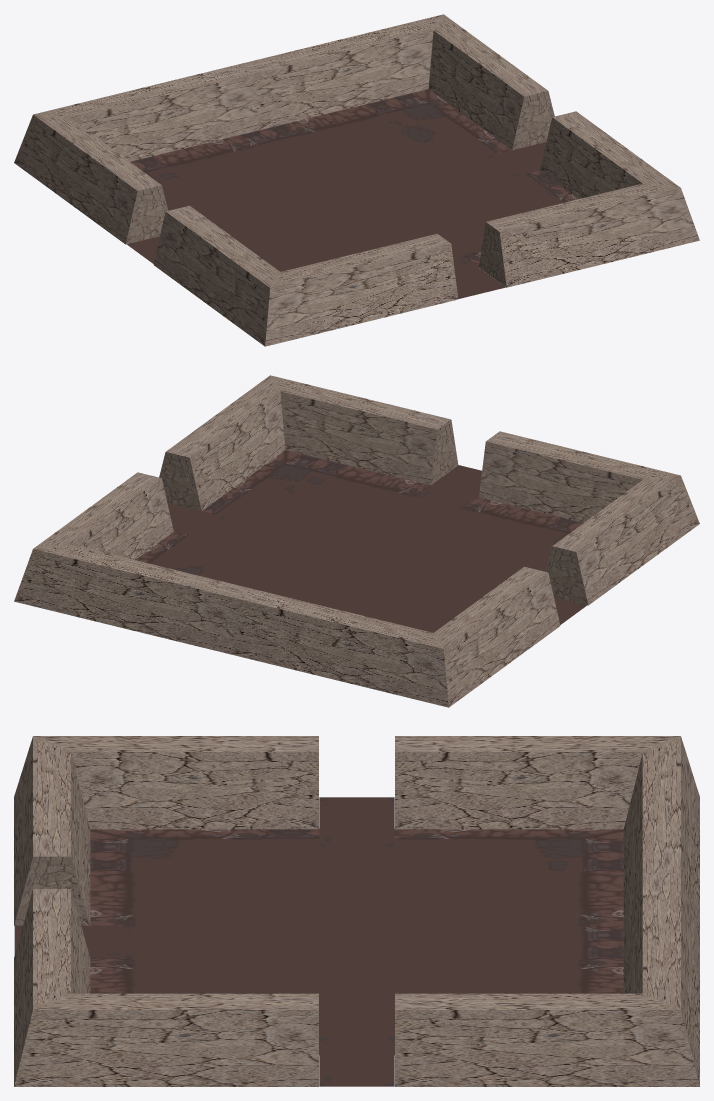
The model's file is sala_12.obj.
The picture shows the model from 3 angles, top to bottom: view 1: azimuth 30°, elevation 25°; view 2: azimuth 150°, elevation 25°; view 3: azimuth 270°, elevation 25°; orthographic projection. The views are drawn at different scales.
Parts seen in each view (by area): view 1: Ground_Plane.001, Wall.006_Cube.016, Wall.004_Cube.015, Wall.001_Cube.012, Wall.003_Cube.010, Wall.002_Cube.014, Wall.000_Cube.011, Wall.005_Cube.002, Wall.007_Cube.017, Plane.002_Plane.008, Plane.003_Plane.005; view 2: Ground_Plane.001, Wall.001_Cube.012, Wall.003_Cube.010, Wall.006_Cube.016, Wall.005_Cube.002, Wall.004_Cube.015, Wall.007_Cube.017, Wall.002_Cube.014, Wall.000_Cube.011, Plane.002_Plane.008, Plane.003_Plane.005; view 3: Ground_Plane.001, Wall.000_Cube.011, Wall.007_Cube.017, Wall.005_Cube.002, Wall.002_Cube.014, Wall.004_Cube.015, Wall.003_Cube.010, Wall.001_Cube.012, Wall.006_Cube.016, Plane.000_Plane.006, Plane.003_Plane.005, Plane.002_Plane.008.
Part boxes in pixels (box(x1,y1,x2,y2)): Ground_Plane.001: box(130, 89, 578, 271); Wall.006_Cube.016: box(479, 183, 699, 287); Wall.004_Cube.015: box(265, 233, 458, 346); Wall.001_Cube.012: box(239, 14, 443, 129); Wall.003_Cube.010: box(33, 64, 259, 161); Wall.002_Cube.014: box(14, 114, 168, 244); Wall.000_Cube.011: box(428, 14, 554, 150); Wall.005_Cube.002: box(153, 205, 279, 346); Wall.007_Cube.017: box(540, 111, 680, 198); Plane.002_Plane.008: box(453, 255, 505, 298); Plane.003_Plane.005: box(486, 142, 546, 176); Ground_Plane.001: box(135, 450, 583, 632); Wall.001_Cube.012: box(14, 544, 251, 654); Wall.003_Cube.010: box(231, 589, 448, 707); Wall.006_Cube.016: box(270, 375, 458, 485); Wall.005_Cube.002: box(545, 475, 699, 605); Wall.004_Cube.015: box(479, 431, 680, 522); Wall.007_Cube.017: box(159, 375, 285, 510); Wall.002_Cube.014: box(434, 566, 560, 707); Wall.000_Cube.011: box(33, 472, 173, 559); Plane.002_Plane.008: box(415, 465, 481, 508); Plane.003_Plane.005: box(167, 503, 227, 537); Ground_Plane.001: box(90, 829, 623, 1054); Wall.000_Cube.011: box(395, 993, 699, 1086); Wall.007_Cube.017: box(14, 993, 318, 1086); Wall.005_Cube.002: box(33, 736, 318, 829); Wall.002_Cube.014: box(395, 736, 680, 829); Wall.004_Cube.015: box(14, 736, 90, 925); Wall.003_Cube.010: box(623, 736, 699, 941); Wall.001_Cube.012: box(623, 873, 699, 1085); Wall.006_Cube.016: box(14, 889, 90, 1085); Plane.000_Plane.006: box(319, 797, 394, 847); Plane.003_Plane.005: box(319, 1036, 394, 1086); Plane.002_Plane.008: box(14, 925, 133, 957).
Size of the model in its own units: 18 by 2 by 18.
